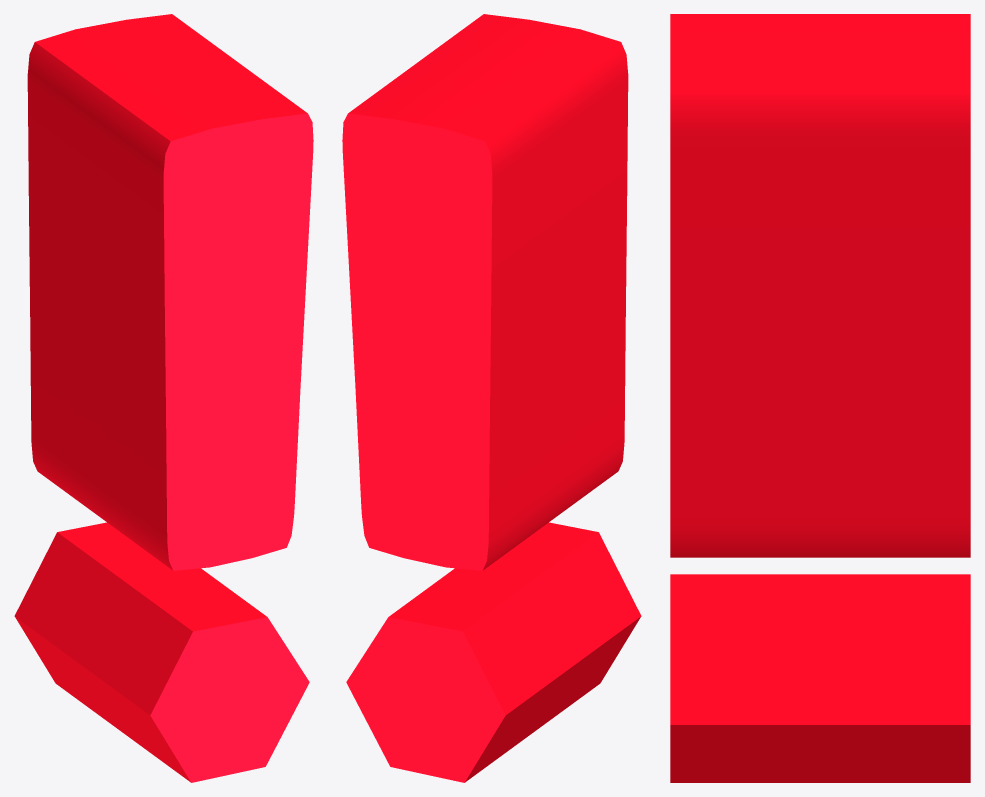
The model's file is 1b997e69-e452-48ab-b08f-da9223fff876.glb.
3 renders of one model, left to right at view 1: azimuth 30°, elevation 25°; view 2: azimuth 150°, elevation 25°; view 3: azimuth 270°, elevation 25°, orthographic. The views are drawn at different scales.
Parts seen in each view (by area): view 1: !_Zyzol_Red; view 2: !_Zyzol_Red; view 3: !_Zyzol_Red.
Boxes of the visible parts, x1,y1,x2,y2 form: !_Zyzol_Red: (14,14,313,782); !_Zyzol_Red: (342,14,641,782); !_Zyzol_Red: (670,14,970,782).
Size of what is drawn, in the model's own units: 0.0312 by 0.119 by 0.045.
Materials: 2 (2 with a texture image).
